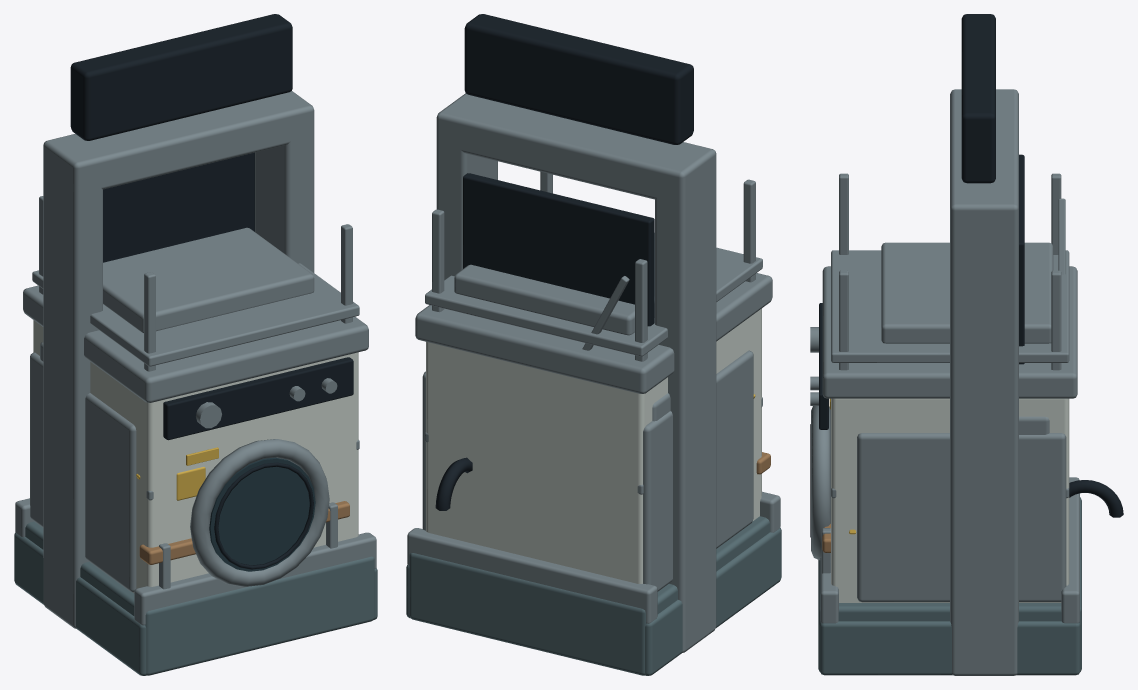
The model's file is props.glb.
3 renders of one model, left to right at view 1: azimuth 30°, elevation 25°; view 2: azimuth 150°, elevation 25°; view 3: azimuth 270°, elevation 25°, orthographic. The views are drawn at different scales.
Visible parts, largest first — view 1: exit, washer, slicer, control, shelves, conveyor, crates, railings; view 2: exit, washer, slicer, conveyor, shelves, control; view 3: exit, slicer, washer, conveyor, shelves, control.
Boxes of the visible parts, x1,y1,x2,y2 form: exit: (43, 14, 314, 628); washer: (23, 285, 368, 593); slicer: (25, 342, 374, 675); control: (103, 227, 314, 332); shelves: (32, 196, 359, 500); conveyor: (14, 498, 377, 675); crates: (139, 501, 349, 589); railings: (176, 467, 205, 500); exit: (436, 14, 716, 652); washer: (415, 273, 772, 583); slicer: (409, 350, 770, 675); conveyor: (406, 491, 781, 675); shelves: (425, 171, 762, 494); control: (454, 240, 654, 335); exit: (950, 14, 1024, 675); slicer: (818, 416, 1081, 672); washer: (810, 266, 1123, 602); conveyor: (819, 477, 1080, 675); shelves: (831, 173, 1069, 498); control: (881, 242, 1053, 343).
Size of the model in its own units: 0.9801 by 2.16 by 1.09.
